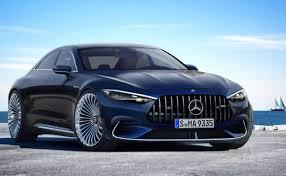mercedes: (188, 98, 205, 116)
